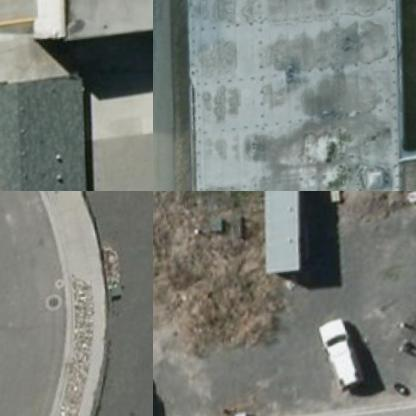car: (310, 316, 374, 397)
